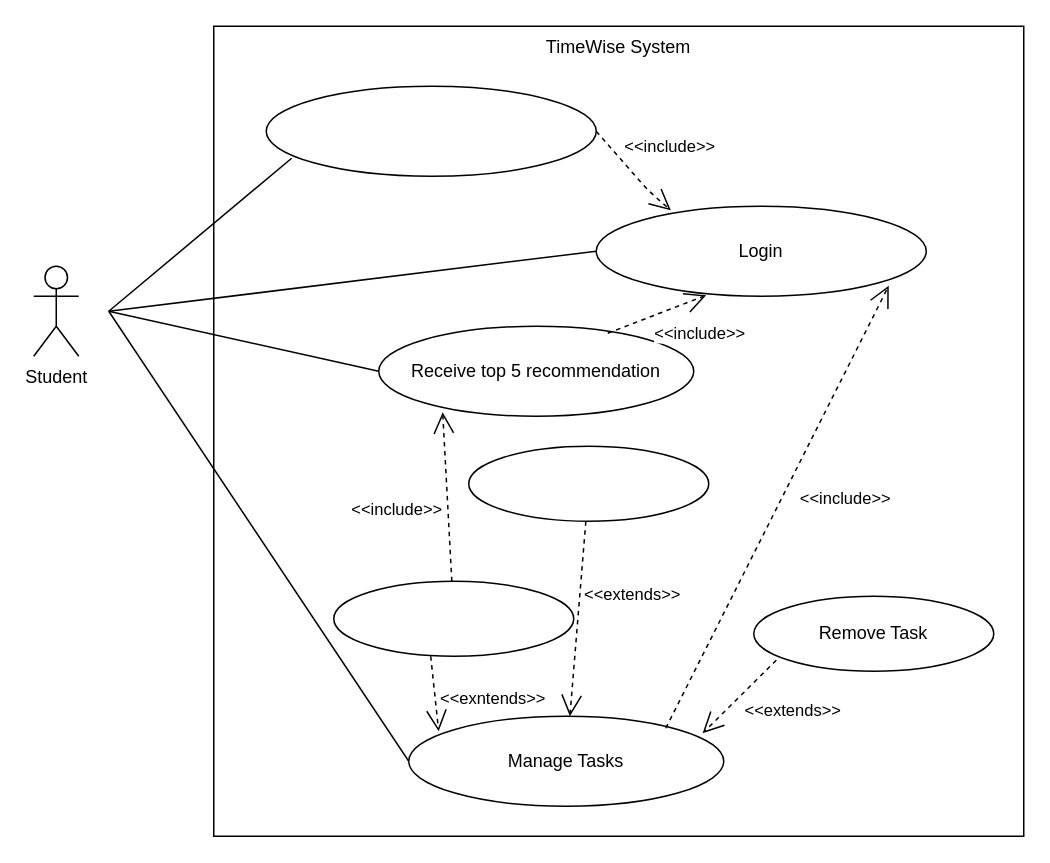
Image size: 1050x863. Some labels were removed from this diagram. The shapes that lost their labels are listed below. From the top down, each one's centre as x and y in pixels, then its label:
point 430,130: Refresh Schedule
point 588,483: Update Task
point 453,618: Add Task
